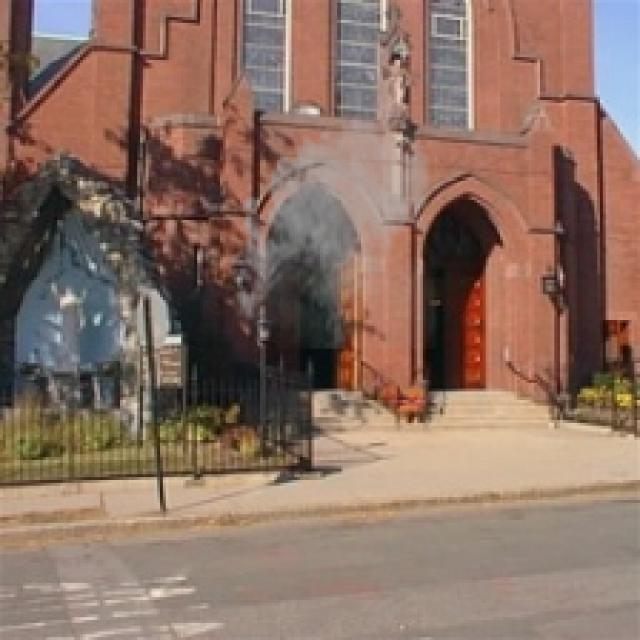smoke: (229, 103, 437, 348)
